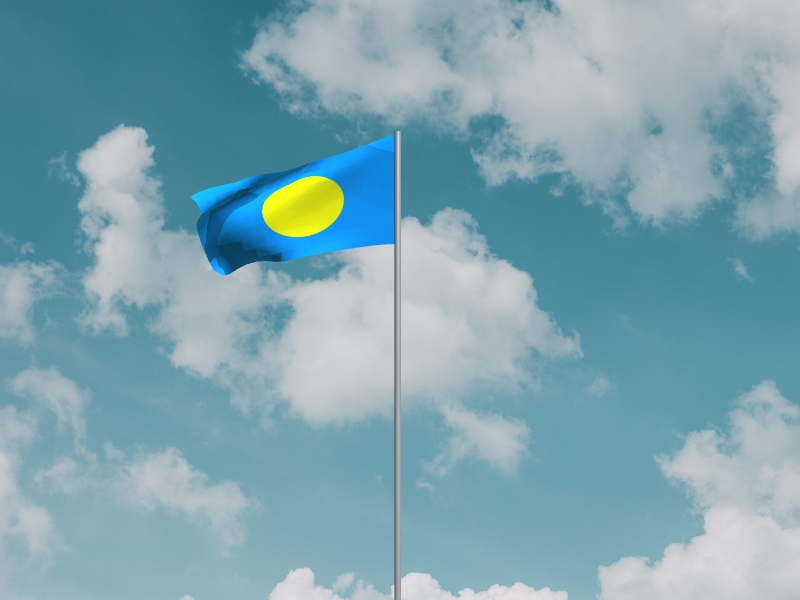pw: (190, 133, 395, 277)
